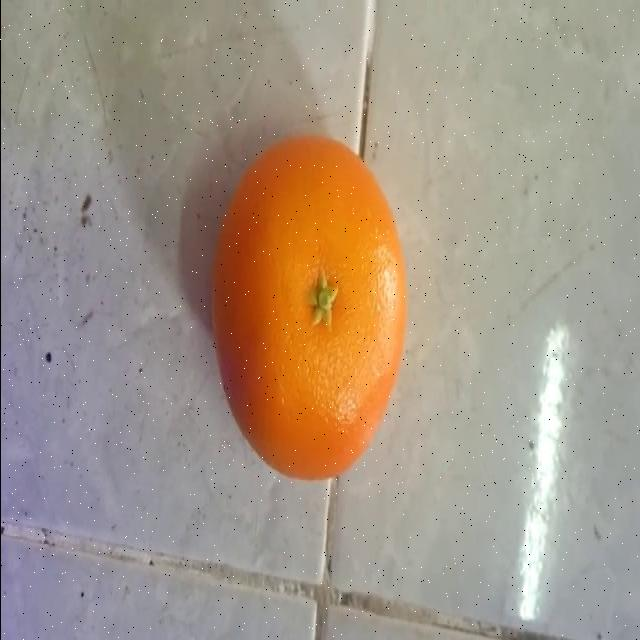Orange: (209, 133, 409, 481)
